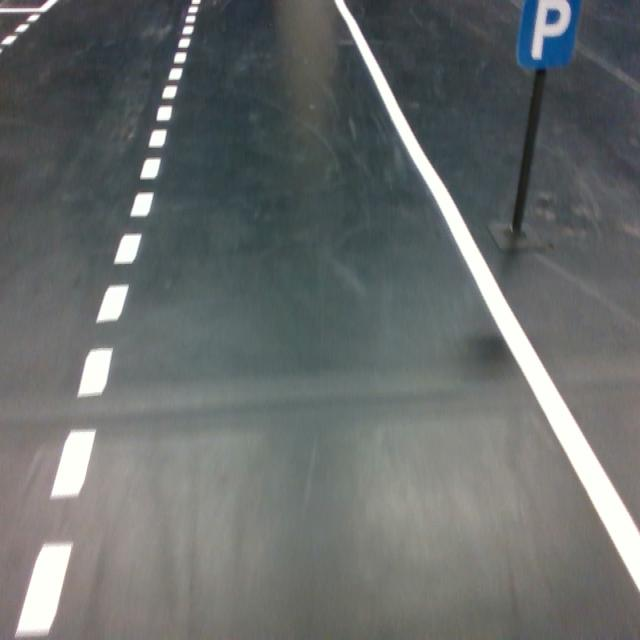parking-sign: (515, 0, 581, 69)
